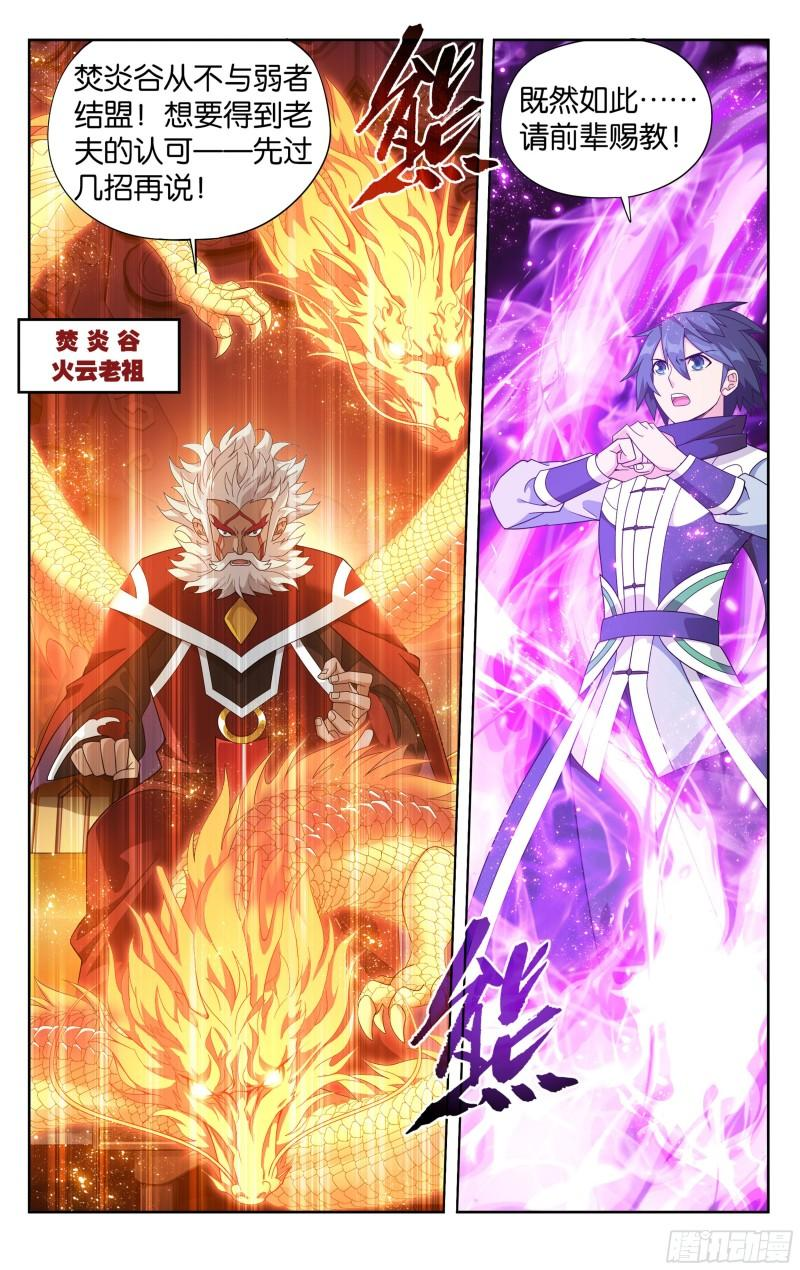boxCube: (12, 314, 186, 395)
boxEllipse: (42, 35, 336, 251), (498, 41, 717, 203)
minBox: (21, 32, 490, 1217), (444, 32, 774, 1219)
